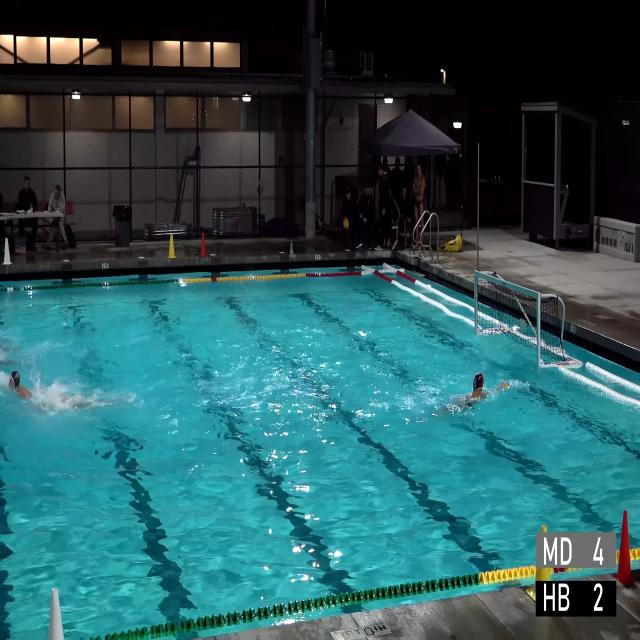ball: (343, 218, 349, 229), (502, 382, 508, 388)
